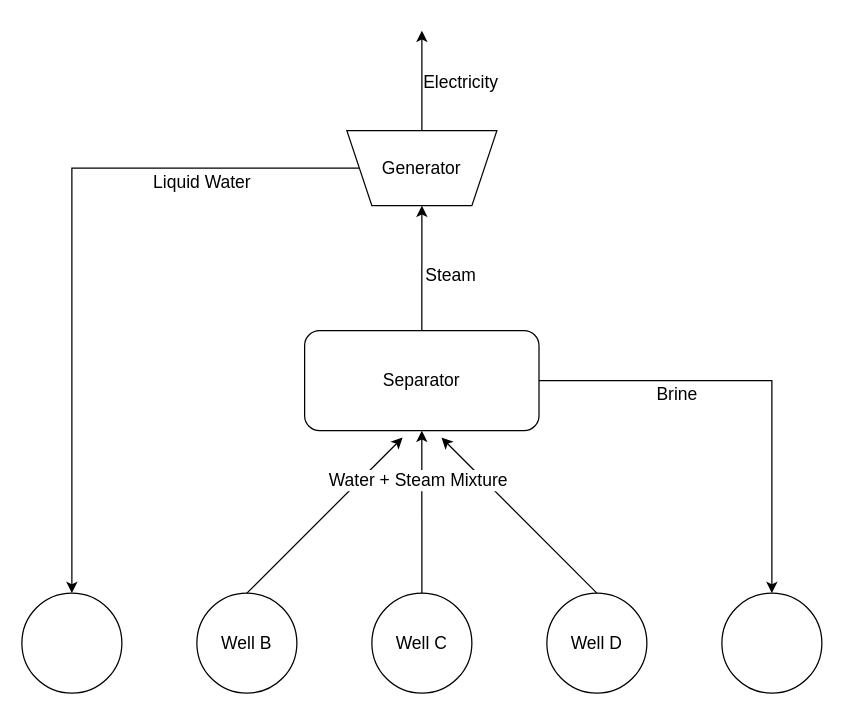
This 844x715 diagram has some shape labels left out. Each missing label, with the centre of its shape:
"Well A" belongs at (x=71, y=642).
"Well E" belongs at (x=771, y=642).
